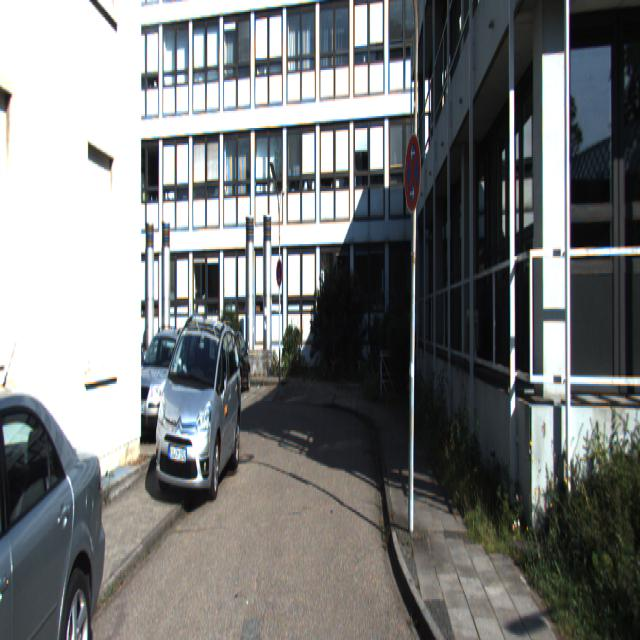Car: (0, 358, 112, 639), (147, 313, 242, 504), (119, 320, 195, 448)
